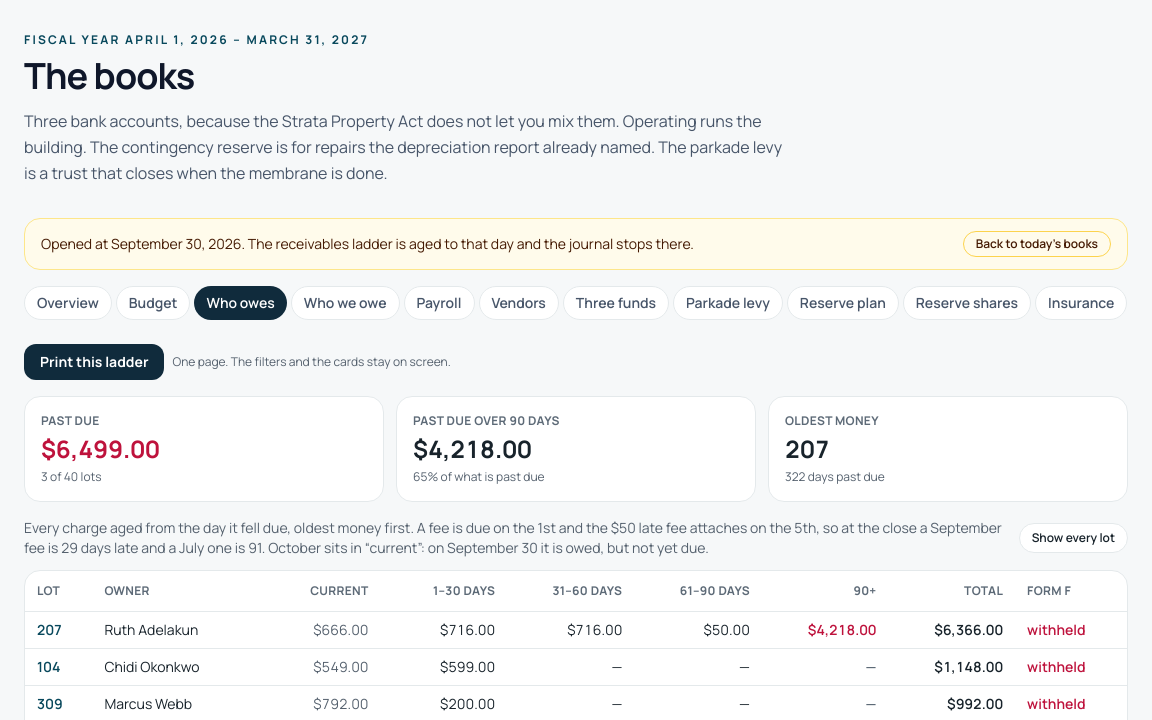
Test: /accounting?period= › lands the newest month on the cash the cards report
This screenshot has width=1152, height=720.
Click the button "Three funds" at (616, 303), box [563, 286, 669, 320]
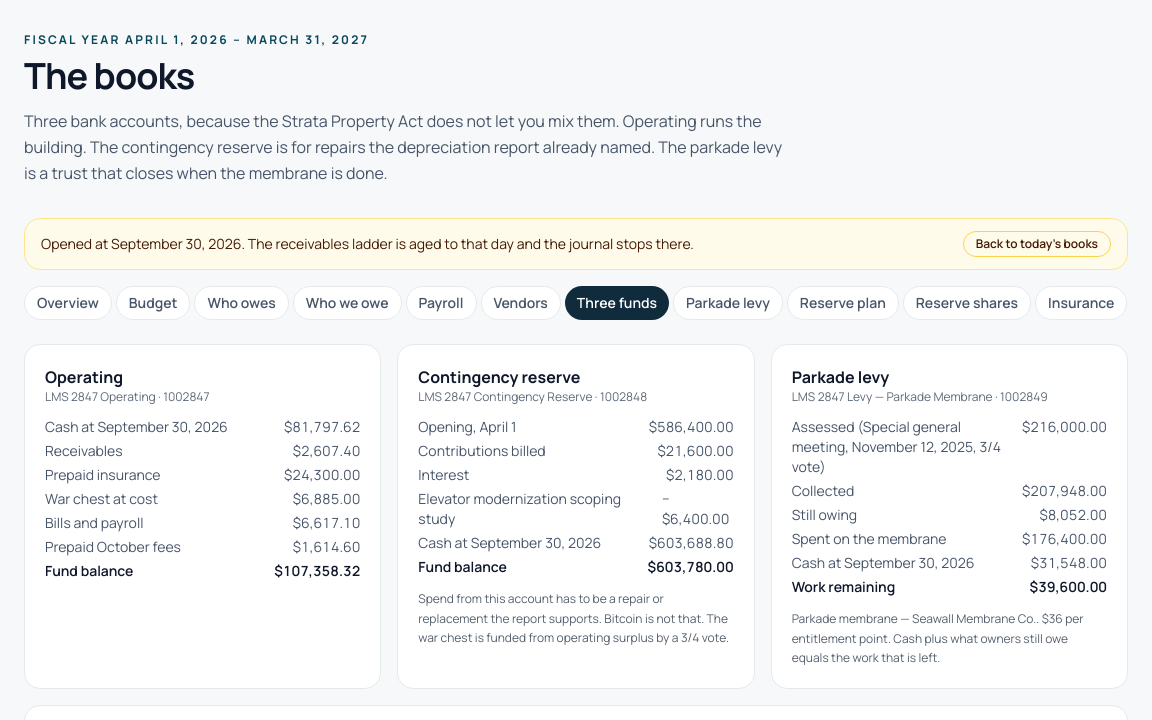
Check: the text "Cash at September 30, 2026" is shown, box [45, 417, 228, 437]
Check: the text "$81,797.62" is shown, box [284, 417, 360, 437]
Check: the text "$603,688.80" is shown, box [649, 533, 734, 553]
